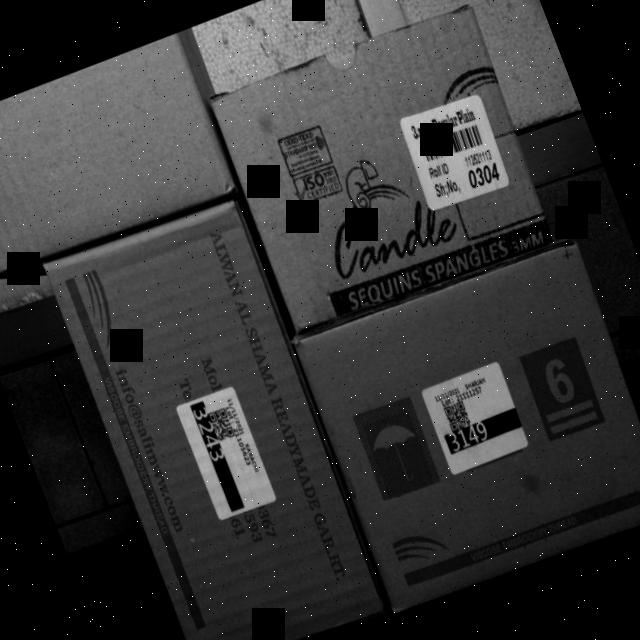box: (46, 197, 389, 640), (286, 218, 640, 630), (209, 0, 564, 336), (0, 32, 236, 289)
